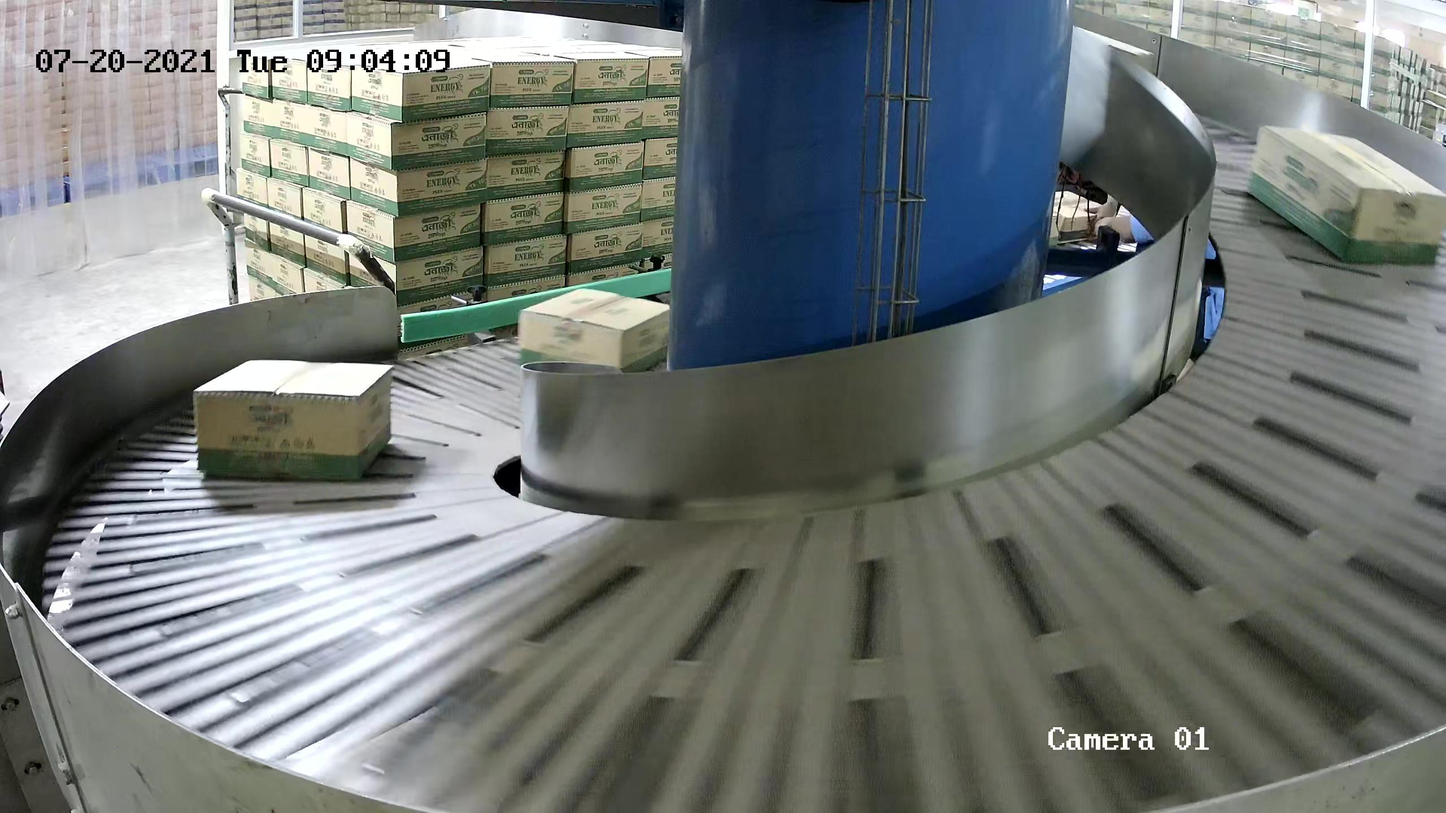Box: (1245, 124, 1446, 264), (192, 358, 394, 480), (516, 287, 670, 372)
